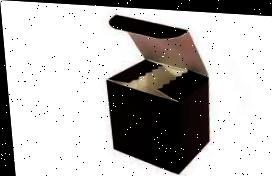cube: (104, 57, 214, 173)
